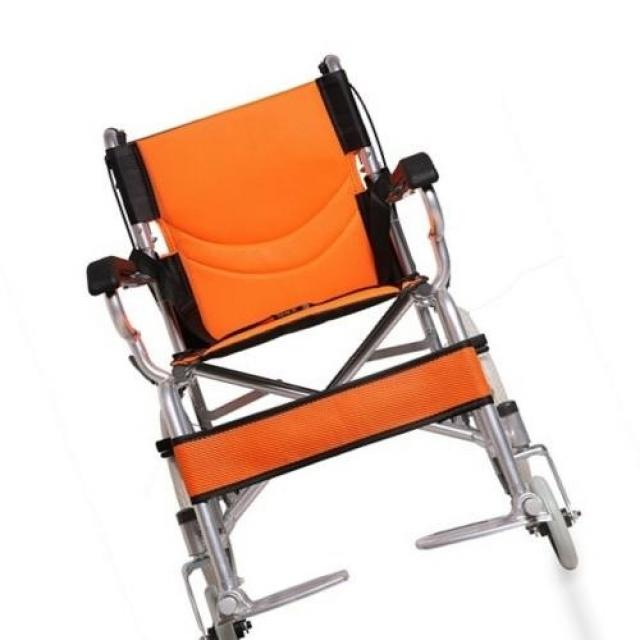wheelchair: (76, 29, 604, 639)
